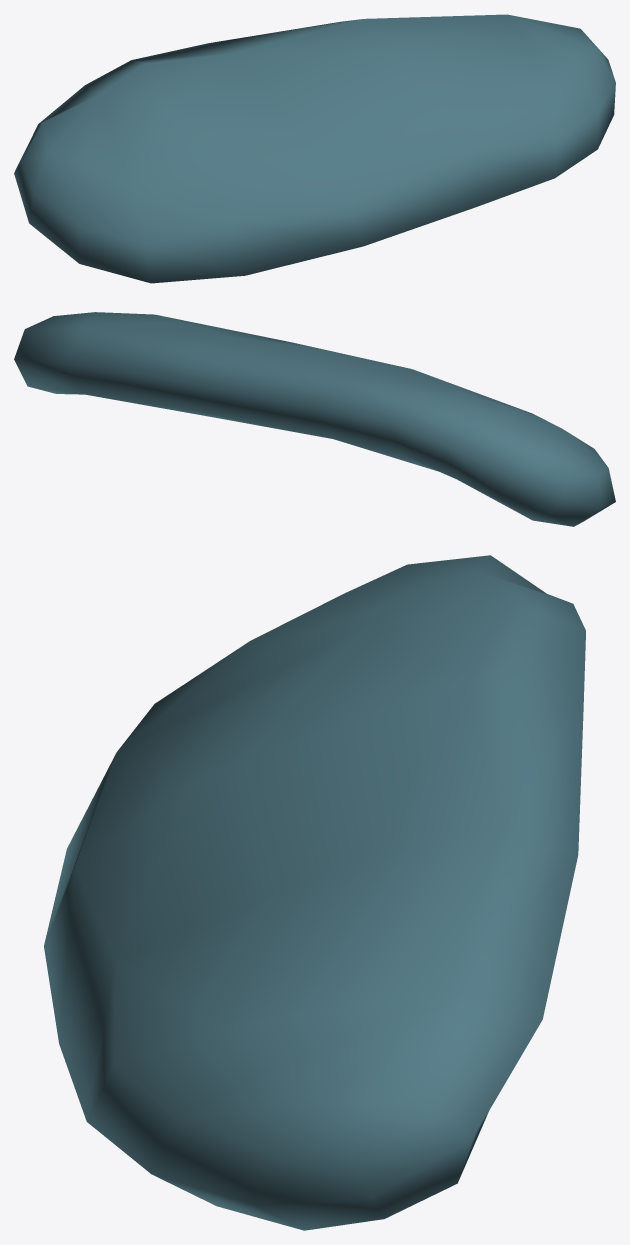
Rendered from Flexor_digitorum_profundus_3rd_finger_distal_phalanx_left.glb.
3 renders of one model, top to bottom at view 1: azimuth 30°, elevation 25°; view 2: azimuth 150°, elevation 25°; view 3: azimuth 270°, elevation 25°, orthographic. The views are drawn at different scales.
Parts seen in each view (by area): view 1: Flexor_digitorum_profundus_on_distal_phalanx_of_3d_finger.l_; view 2: Flexor_digitorum_profundus_on_distal_phalanx_of_3d_finger.l_; view 3: Flexor_digitorum_profundus_on_distal_phalanx_of_3d_finger.l_.
Boxes of the visible parts, left/top/right/bottom form: Flexor_digitorum_profundus_on_distal_phalanx_of_3d_finger.l_: left=14, top=14, right=615, bottom=283; Flexor_digitorum_profundus_on_distal_phalanx_of_3d_finger.l_: left=14, top=312, right=615, bottom=526; Flexor_digitorum_profundus_on_distal_phalanx_of_3d_finger.l_: left=44, top=555, right=585, bottom=1230.
Bounding box in the file's own units: 0.00374 × 0.000889 × 0.00153.
